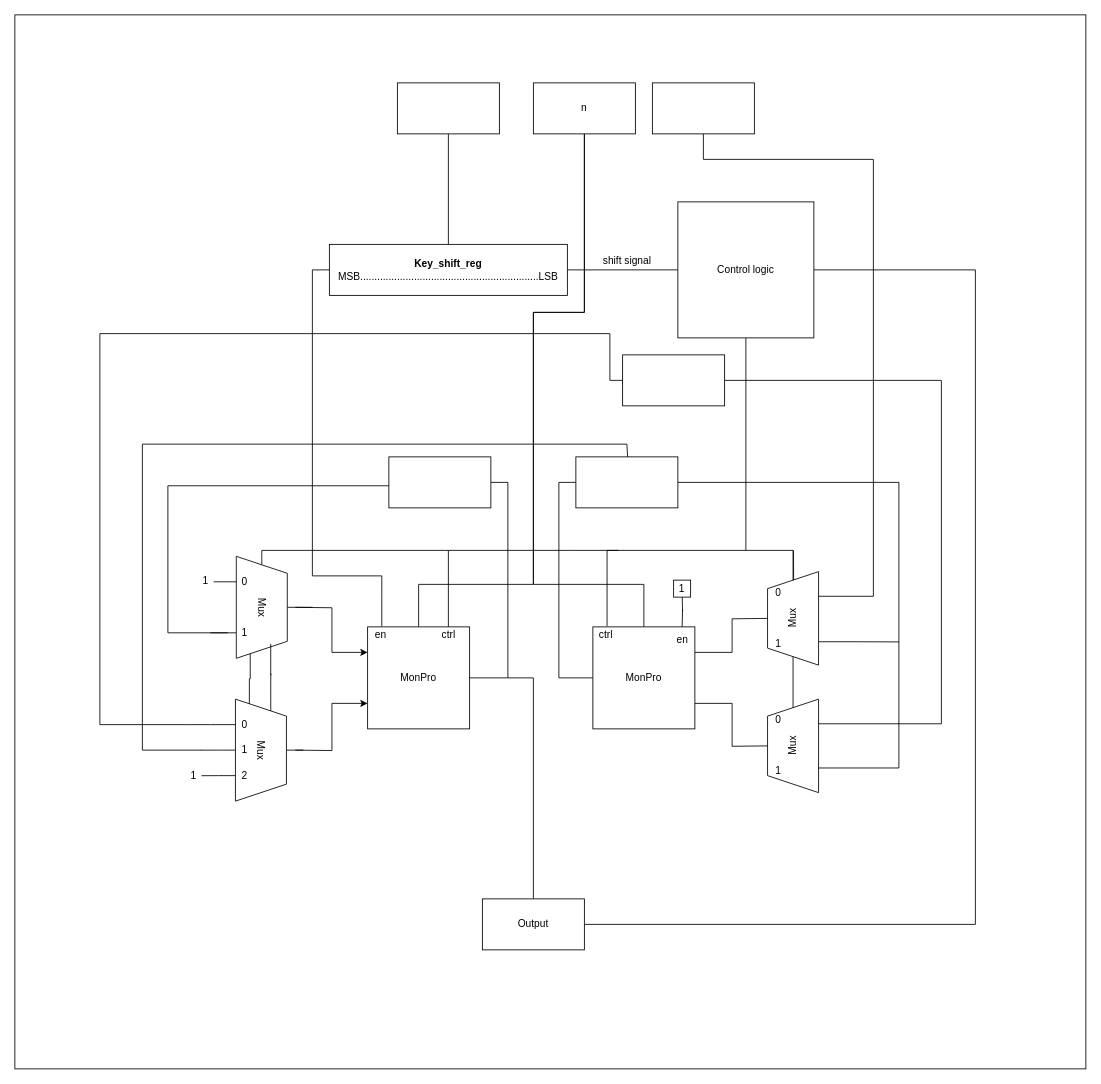
Some shapes in this 1101 by 1084 pixel diagram are drawn without their labels. The centre of each missing label's shape, as x and y in pixels:
"C - reg" belongs at point 439,482.
"const r*r" belongs at point 673,380.
"Key" belongs at point 448,108.
"Message" belongs at point 703,108.
"S - reg" belongs at point 626,482.
